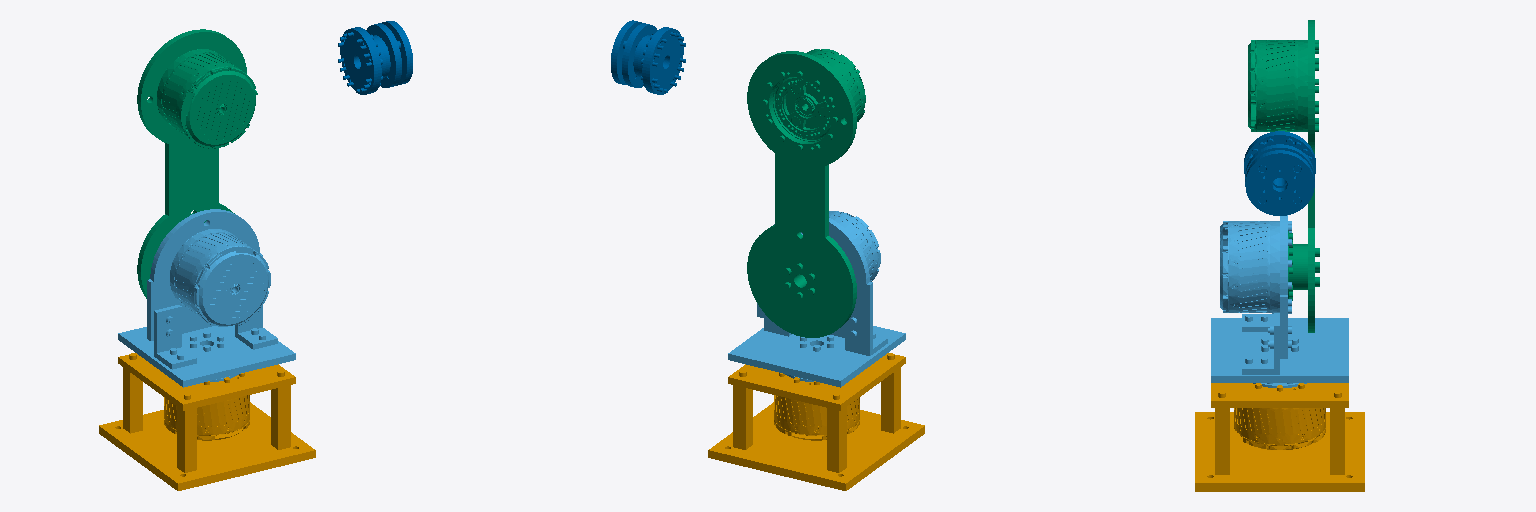
URDF robot description (r4_arm):
<?xml version="1.0"?>
<!-- R4 四轴机械臂 URDF —— 由 tools/build_urdf.py 从装配包自动生成，勿手改 -->
<!-- 几何/位姿: source/assembly.json + CAD/*.STEP (mm) ; 关节轴: 4 个 P04 hub 圆柱轴反算 -->
<robot name="r4_arm">
  <link name="base_link">
    <inertial>
      <origin xyz="-1.5774231e-05 6.30757676e-06 0.0584919243" rpy="0 0 0"/>
      <mass value="5.10617647"/>
      <inertia ixx="0.0495841655" ixy="1.92308825e-06" ixz="5.25375587e-06" iyy="0.0495904919" iyz="-4.56762908e-07" izz="0.0322660054"/>
    </inertial>
    <visual>
      <origin xyz="0 0 0" rpy="0 0 0"/>
      <geometry><mesh filename="../meshes/visual/base_link.stl"/></geometry>
    </visual>
    <collision>
      <origin xyz="0 0 0" rpy="0 0 0"/>
      <geometry><mesh filename="../meshes/collision/base_link.stl"/></geometry>
    </collision>
  </link>
  <link name="link1">
    <inertial>
      <origin xyz="-1.75975075e-05 -0.0181392176 0.114641286" rpy="0 0 0"/>
      <mass value="4.57712587"/>
      <inertia ixx="0.103180056" ixy="-6.29403316e-06" ixz="1.46172281e-05" iyy="0.104240056" iyz="0.0163323395" izz="0.0169463384"/>
    </inertial>
    <visual>
      <origin xyz="0 0 0" rpy="0 0 0"/>
      <geometry><mesh filename="../meshes/visual/link1.stl"/></geometry>
    </visual>
    <collision>
      <origin xyz="0 0 0" rpy="0 0 0"/>
      <geometry><mesh filename="../meshes/collision/link1.stl"/></geometry>
    </collision>
  </link>
  <link name="link2">
    <inertial>
      <origin xyz="4.53914026e-05 0.0151252556 0.1845806" rpy="0 0 0"/>
      <mass value="4.11189848"/>
      <inertia ixx="0.240847789" ixy="-7.41472532e-06" ixz="-3.70984132e-05" iyy="0.241151407" iyz="-0.00193683329" izz="0.00931753278"/>
    </inertial>
    <visual>
      <origin xyz="0 0 0" rpy="0 0 0"/>
      <geometry><mesh filename="../meshes/visual/link2.stl"/></geometry>
    </visual>
    <collision>
      <origin xyz="0 0 0" rpy="0 0 0"/>
      <geometry><mesh filename="../meshes/collision/link2.stl"/></geometry>
    </collision>
  </link>
  <link name="link3">
    <inertial>
      <origin xyz="0.161511442 -0.0108536446 6.85007367e-06" rpy="0 0 0"/>
      <mass value="4.70178885"/>
      <inertia ixx="0.0228339478" ixy="0.0283159976" ixz="-5.5127275e-06" iyy="0.203140127" iyz="3.89297366e-06" izz="0.210390863"/>
    </inertial>
    <visual>
      <origin xyz="0 0 0" rpy="0 0 0"/>
      <geometry><mesh filename="../meshes/visual/link3.stl"/></geometry>
    </visual>
    <collision>
      <origin xyz="0 0 0" rpy="0 0 0"/>
      <geometry><mesh filename="../meshes/collision/link3.stl"/></geometry>
    </collision>
  </link>
  <link name="link4">
    <inertial>
      <origin xyz="0.0299405876 0 0" rpy="0 0 0"/>
      <mass value="0.839127169"/>
      <inertia ixx="0.00103521926" ixy="0" ixz="0" iyy="0.00194260597" iyz="0" izz="0.00194242852"/>
    </inertial>
    <visual>
      <origin xyz="0 0 0" rpy="0 0 0"/>
      <geometry><mesh filename="../meshes/visual/link4.stl"/></geometry>
    </visual>
    <collision>
      <origin xyz="0 0 0" rpy="0 0 0"/>
      <geometry><mesh filename="../meshes/collision/link4.stl"/></geometry>
    </collision>
  </link>
  <link name="tool_link"/>
  <joint name="joint1" type="revolute">
    <parent link="base_link"/>
    <child link="link1"/>
    <origin xyz="0 0 0.11" rpy="0 0 0"/>
    <axis xyz="0 0 1"/>
    <limit lower="-3.14159265" upper="3.14159265" effort="46.37" velocity="1"/>
    <dynamics damping="0.5" friction="0.2"/>
  </joint>
  <joint name="joint2" type="revolute">
    <parent link="link1"/>
    <child link="link2"/>
    <origin xyz="0 0 0.16" rpy="0 0 0"/>
    <axis xyz="0 1 0"/>
    <limit lower="-1.74532925" upper="1.74532925" effort="46.37" velocity="1"/>
    <dynamics damping="0.5" friction="0.2"/>
  </joint>
  <joint name="joint3" type="revolute">
    <parent link="link2"/>
    <child link="link3"/>
    <origin xyz="0 0.036 0.26" rpy="0 0 0"/>
    <axis xyz="0 1 0"/>
    <limit lower="-2.44346095" upper="2.44346095" effort="14.5" velocity="1"/>
    <dynamics damping="0.5" friction="0.2"/>
  </joint>
  <joint name="joint4" type="revolute">
    <parent link="link3"/>
    <child link="link4"/>
    <origin xyz="0.24 -0.036 0" rpy="0 0 0"/>
    <axis xyz="1 0 0"/>
    <limit lower="-3.14159265" upper="3.14159265" effort="1" velocity="1"/>
    <dynamics damping="0.5" friction="0.2"/>
  </joint>
  <joint name="tool_mount" type="fixed">
    <parent link="link4"/>
    <child link="tool_link"/>
    <origin xyz="0.064 0 0" rpy="0 0 0"/>
  </joint>
  <transmission name="joint1_trans">
    <type>transmission_interface/SimpleTransmission</type>
    <joint name="joint1"><hardwareInterface>hardware_interface/PositionJointInterface</hardwareInterface></joint>
    <actuator name="joint1_motor"><mechanicalReduction>1</mechanicalReduction></actuator>
  </transmission>
  <transmission name="joint2_trans">
    <type>transmission_interface/SimpleTransmission</type>
    <joint name="joint2"><hardwareInterface>hardware_interface/PositionJointInterface</hardwareInterface></joint>
    <actuator name="joint2_motor"><mechanicalReduction>1</mechanicalReduction></actuator>
  </transmission>
  <transmission name="joint3_trans">
    <type>transmission_interface/SimpleTransmission</type>
    <joint name="joint3"><hardwareInterface>hardware_interface/PositionJointInterface</hardwareInterface></joint>
    <actuator name="joint3_motor"><mechanicalReduction>1</mechanicalReduction></actuator>
  </transmission>
  <transmission name="joint4_trans">
    <type>transmission_interface/SimpleTransmission</type>
    <joint name="joint4"><hardwareInterface>hardware_interface/PositionJointInterface</hardwareInterface></joint>
    <actuator name="joint4_motor"><mechanicalReduction>1</mechanicalReduction></actuator>
  </transmission>
</robot>

--- Render facts (derived) ---
The picture shows the robot from 3 angles, left to right: view 1: azimuth 30°, elevation 25°; view 2: azimuth 150°, elevation 25°; view 3: azimuth 270°, elevation 25°; orthographic projection.
Model r4_arm with 6 links and 5 joints (4 revolute, 1 fixed), rooted at base_link, posed every joint at zero.
Visible links, largest first — view 1: link1, base_link, link2, link4; view 2: link2, base_link, link1, link4; view 3: base_link, link1, link2, link4.
Link boxes in pixels (left/top/right/bottom): link1: left=118, top=209, right=295, bottom=387; base_link: left=99, top=353, right=315, bottom=490; link2: left=137, top=29, right=257, bottom=298; link4: left=338, top=21, right=412, bottom=94; link2: left=747, top=49, right=865, bottom=337; base_link: left=708, top=353, right=924, bottom=490; link1: left=728, top=211, right=905, bottom=387; link4: left=611, top=20, right=685, bottom=94; base_link: left=1195, top=383, right=1364, bottom=491; link1: left=1211, top=215, right=1348, bottom=387; link2: left=1248, top=20, right=1319, bottom=332; link4: left=1244, top=131, right=1315, bottom=215.
Size in the robot's own frame: 0.414 by 0.22 by 0.615 metres.
4 mesh visuals loaded from 5 distinct referenced files (4 binary STL); not drawn: 1 (reference not matched to a file when rendering).
